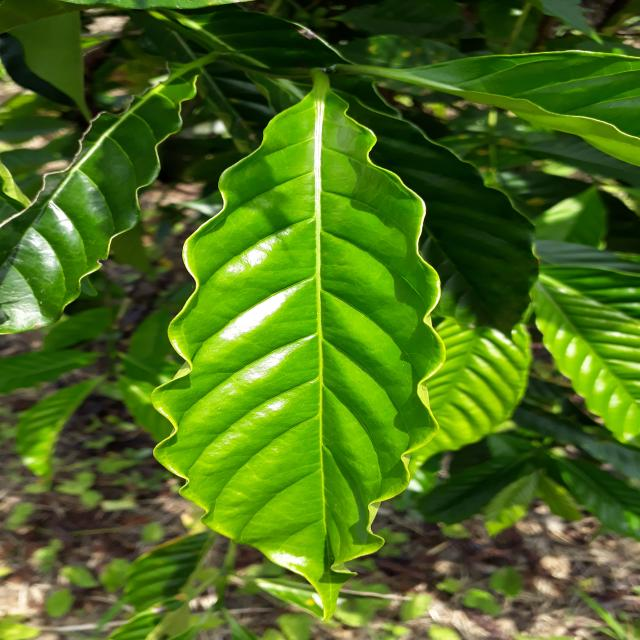Sanas: (153, 96, 442, 582)
